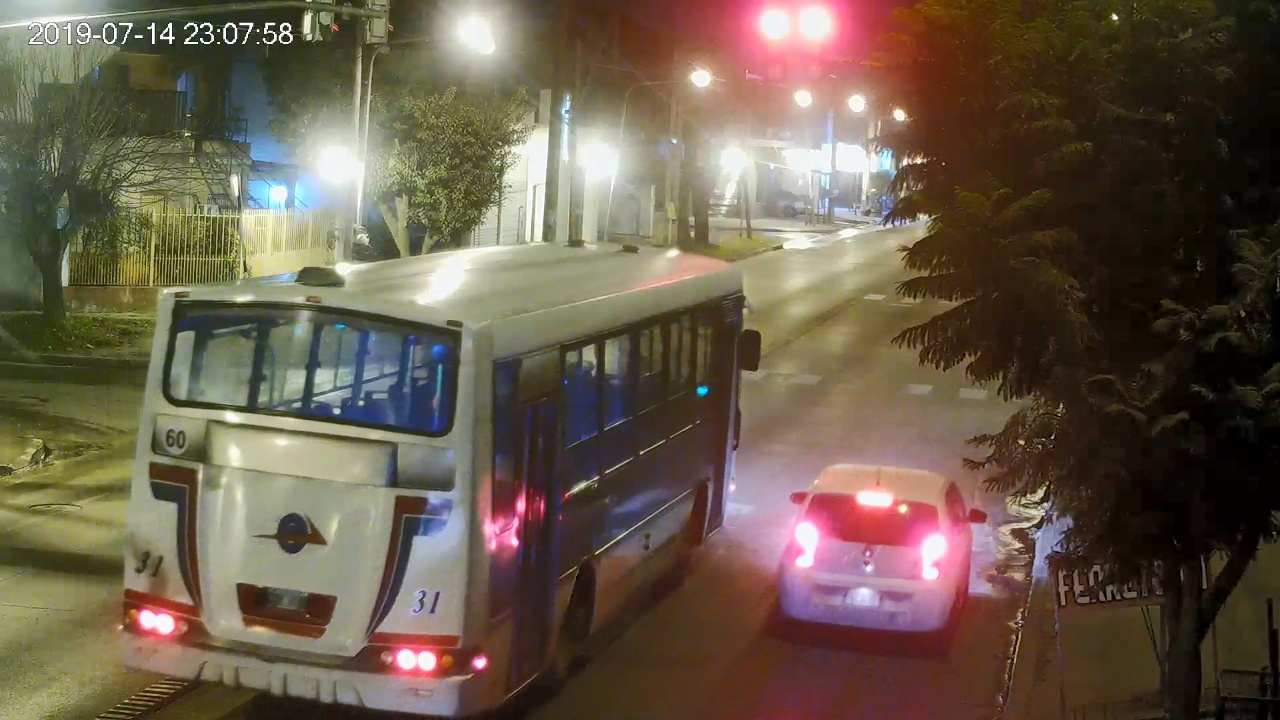bus: (119, 239, 760, 720)
car: (779, 461, 986, 653)
traffic light: (802, 11, 826, 81), (764, 10, 788, 79)
